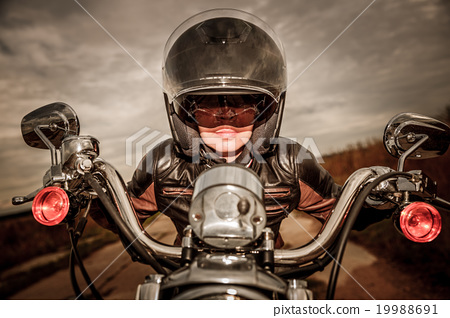helmet: (162, 21, 289, 148)
